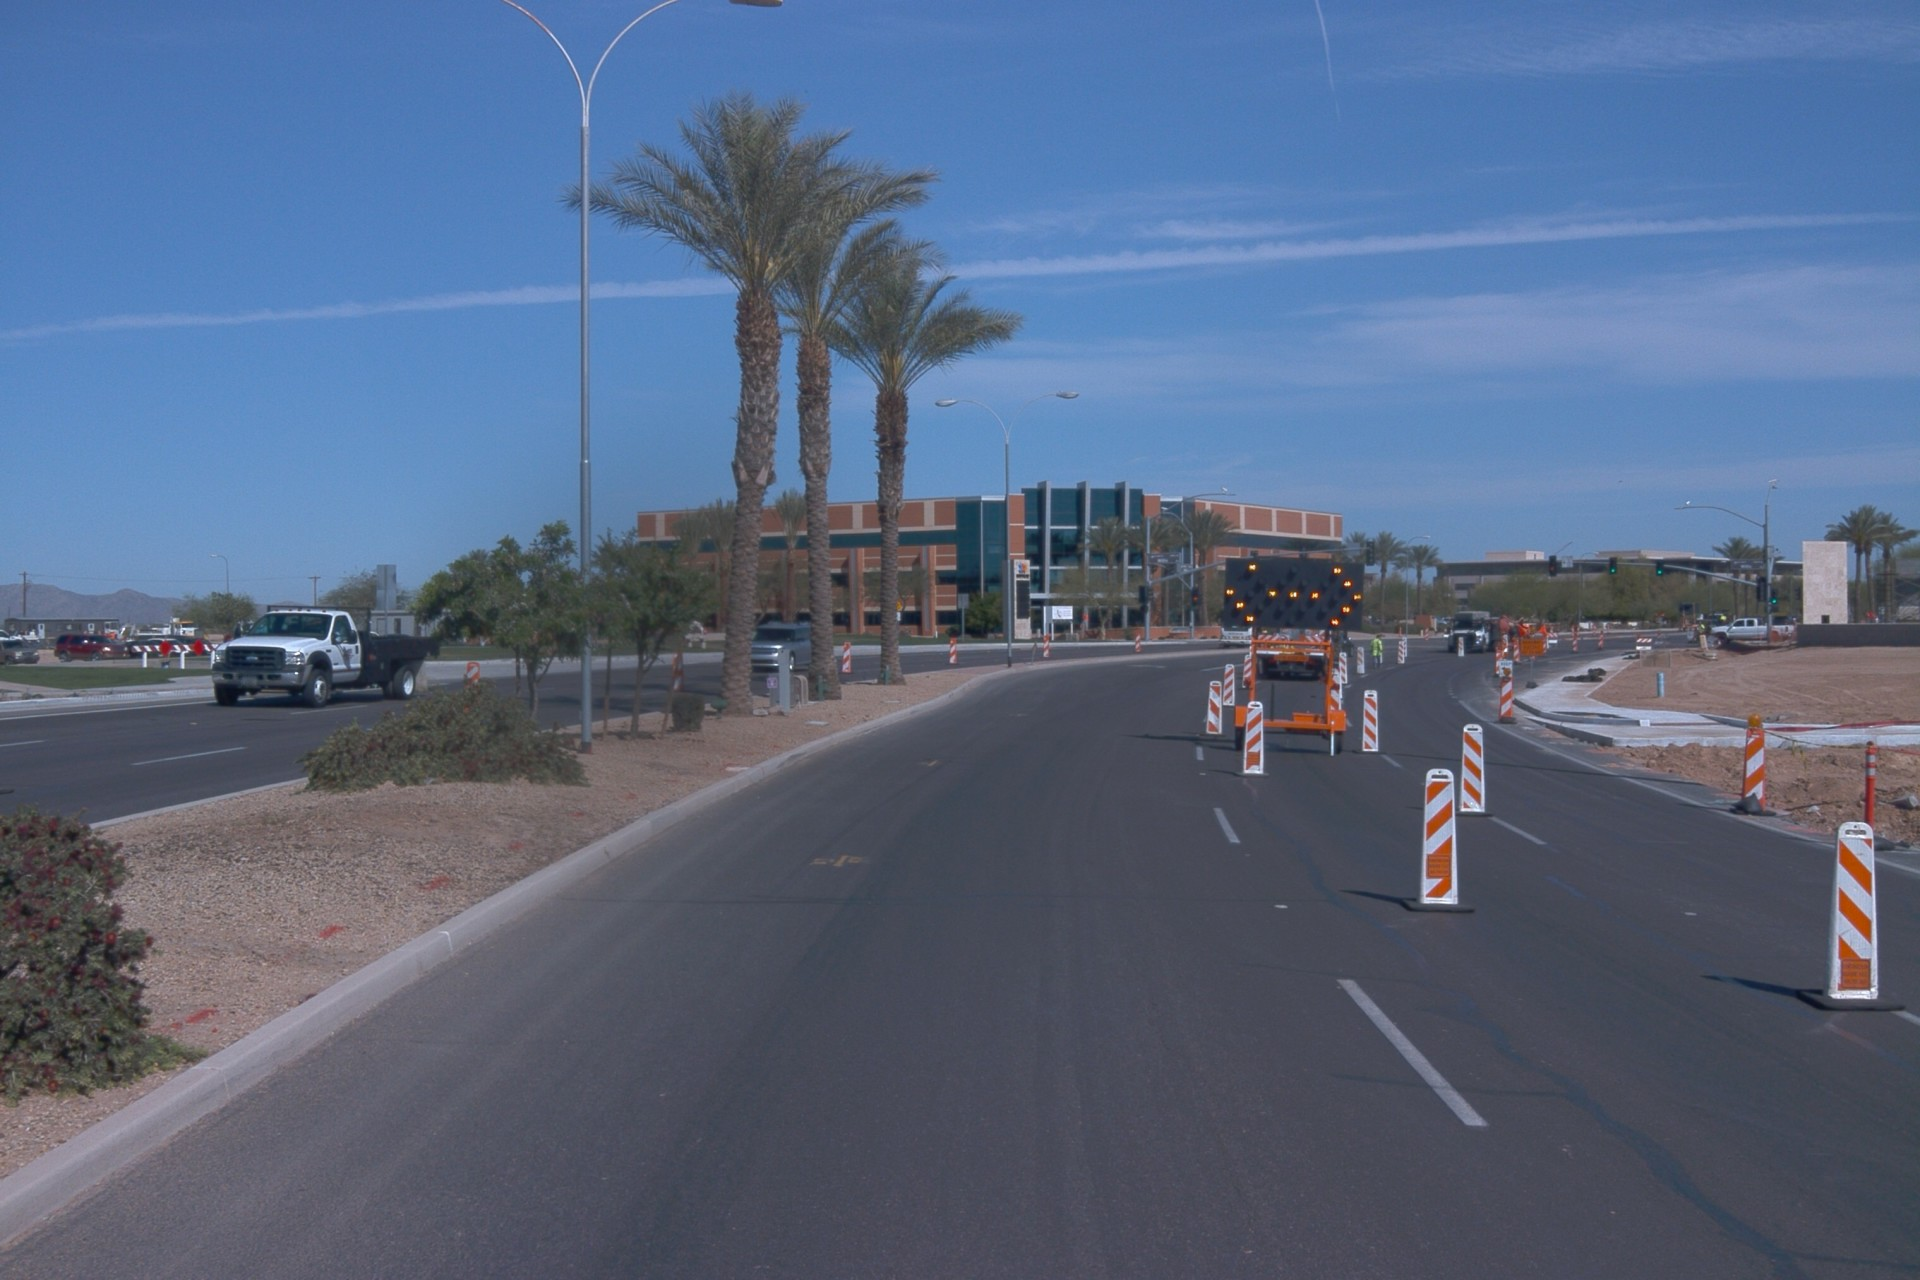TYPE_PEDESTRIAN: (1369, 634, 1383, 671)
TYPE_VEHICLE: (1217, 551, 1389, 781), (199, 602, 454, 708), (1245, 625, 1356, 685), (1444, 607, 1542, 655), (747, 622, 811, 674), (50, 626, 132, 665), (1702, 620, 1796, 648), (0, 634, 41, 667), (1215, 621, 1254, 653), (151, 634, 195, 657), (0, 625, 29, 648), (1342, 633, 1358, 657)
